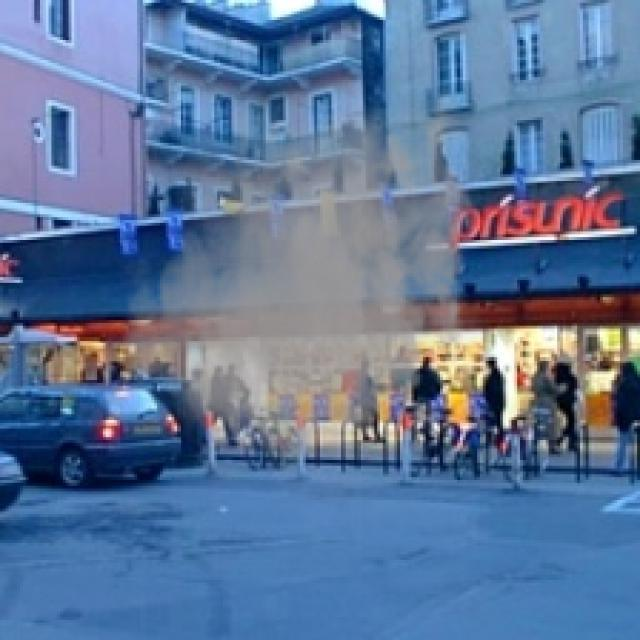Smoke: (111, 71, 492, 486)
